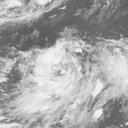cyclone: (39, 46, 95, 104)
